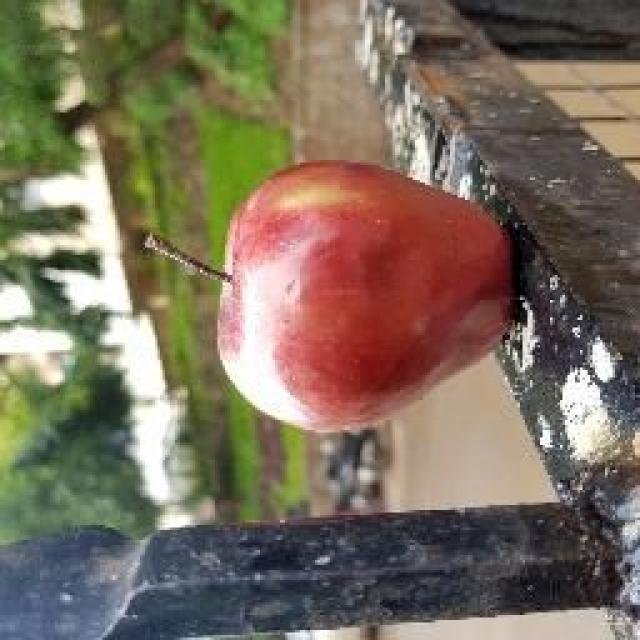Good_Apple: (215, 160, 518, 438)
